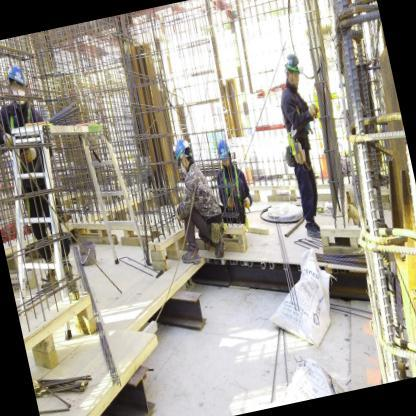safety-shoe: (179, 243, 201, 270), (304, 218, 324, 243), (212, 240, 228, 260)
